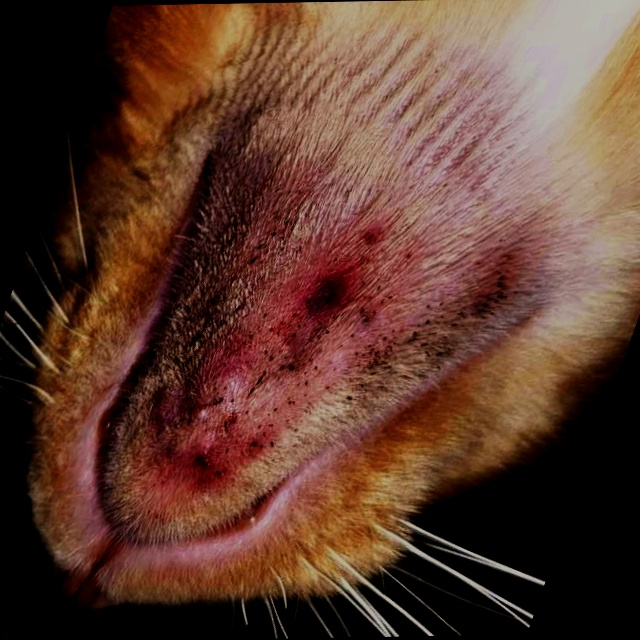acne: (111, 209, 555, 483)
